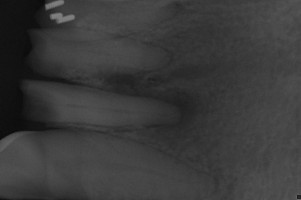Furcation Involvement: (96, 62, 217, 139)
